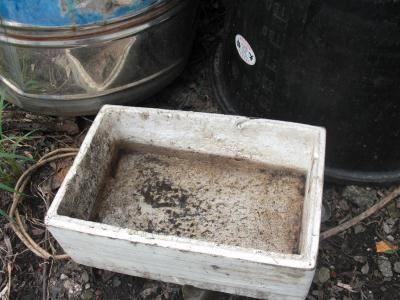styrofoam: (40, 100, 327, 298)
